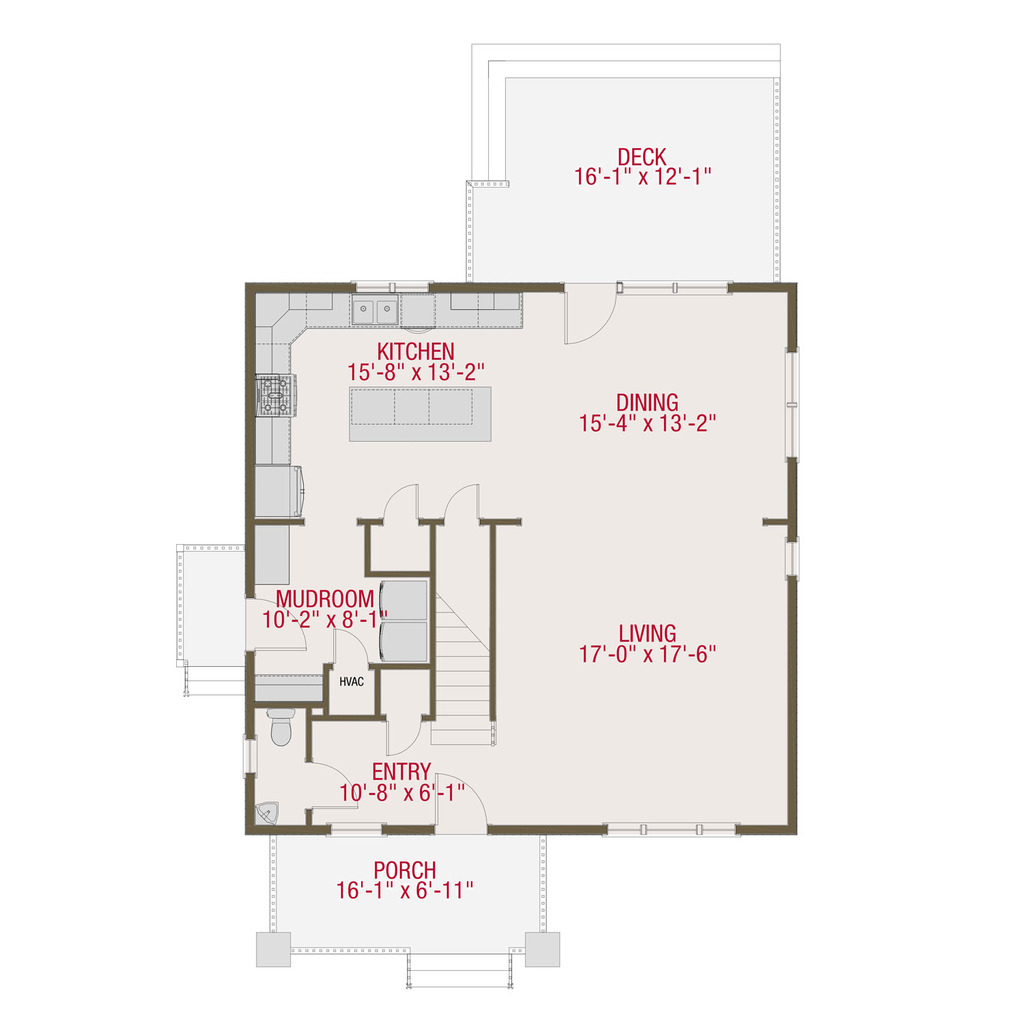door: (242, 586, 308, 658), (430, 766, 495, 838), (556, 282, 628, 346), (303, 755, 361, 808), (381, 714, 439, 760), (377, 482, 433, 525), (442, 478, 491, 527), (334, 624, 373, 672)
kitchen_bar: (338, 371, 505, 452)
large_sink: (259, 702, 306, 752)
stairs: (428, 553, 516, 757)
twin_sink: (342, 289, 413, 341)
window: (608, 816, 747, 847), (783, 352, 808, 461), (619, 275, 734, 294), (327, 814, 395, 839), (785, 532, 805, 591)
